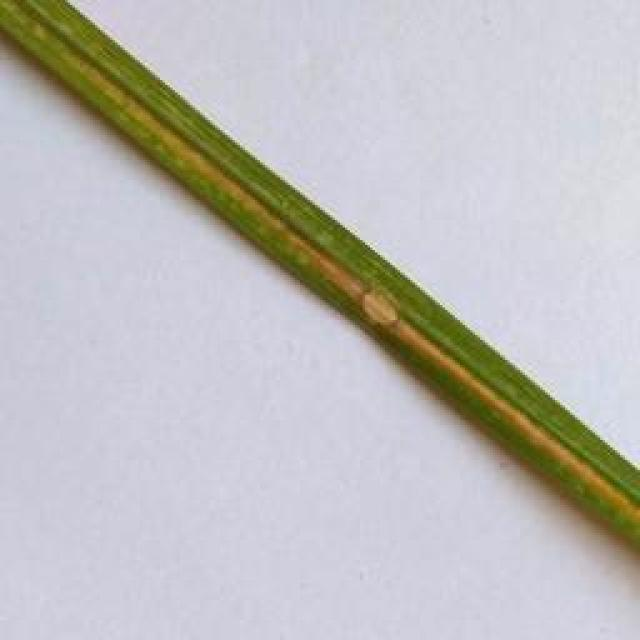Unhealthy: (65, 41, 640, 528)
